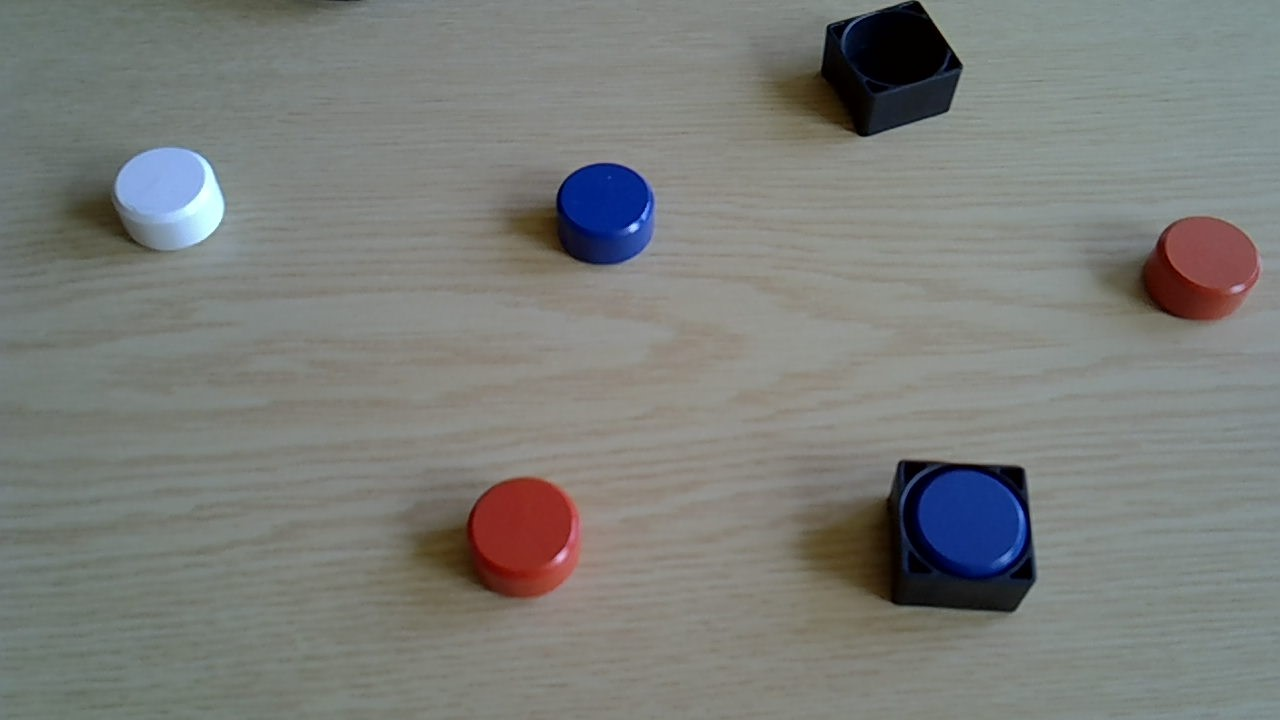Behaelter: (886, 456, 1036, 616), (819, 1, 962, 137)
WerkStueck: (466, 476, 588, 599), (1139, 217, 1264, 324), (912, 470, 1031, 579), (110, 147, 228, 255), (553, 162, 658, 265)
